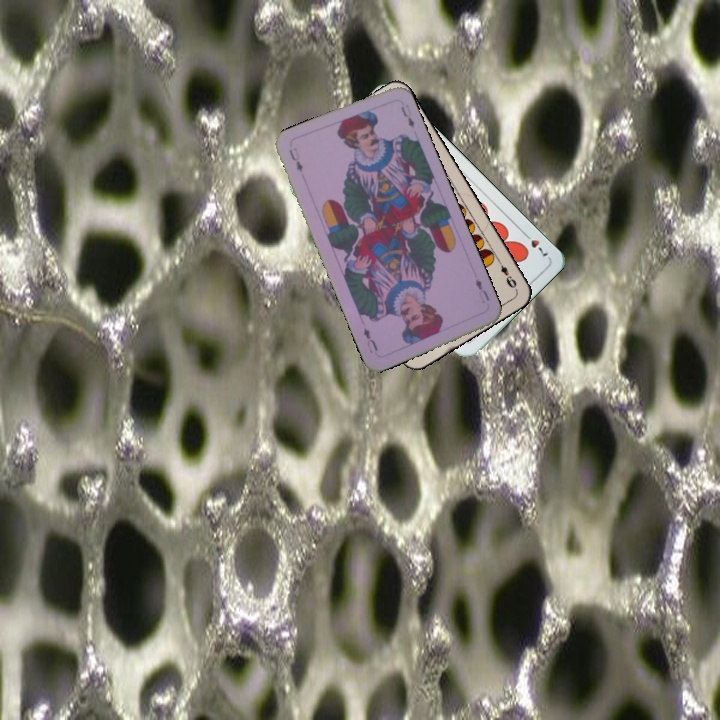E9: (494, 255, 519, 292)
EU: (285, 143, 305, 175), (471, 275, 492, 305)
H7: (519, 228, 551, 259)
